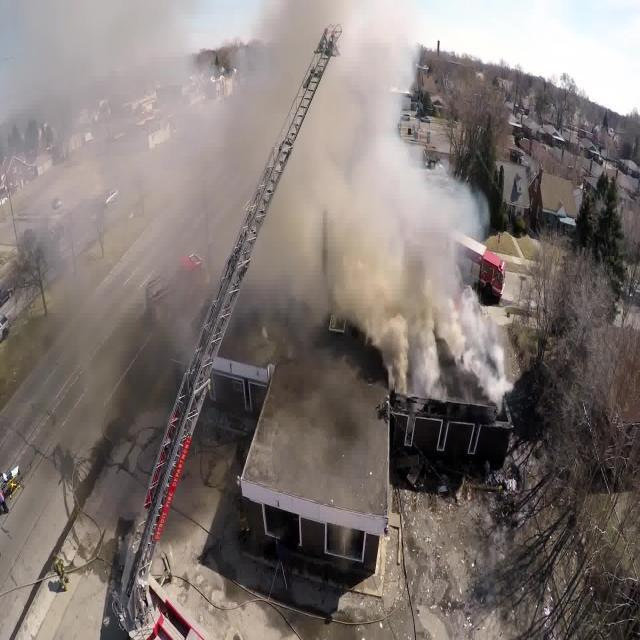Smoke: (238, 0, 490, 387)
